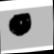correct: (6, 8, 41, 41)
